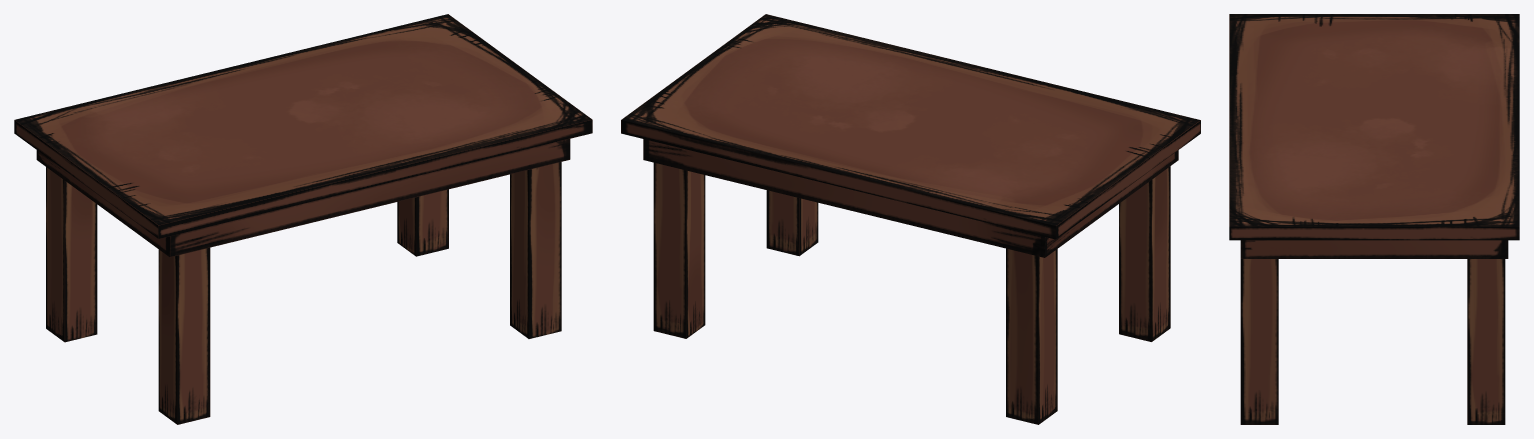
File: table_main_final.fbx
3 views of the same model, side by side, from view 1: azimuth 30°, elevation 25°; view 2: azimuth 150°, elevation 25°; view 3: azimuth 270°, elevation 25° (orthographic).
Visible parts, largest first — view 1: стол; view 2: стол; view 3: стол.
Part boxes in pixels (x1,y1,x2,y2): стол: (14,14,592,424); стол: (621,14,1200,424); стол: (1229,14,1519,424).
Bounding box in the file's own units: 2.81 × 1.3 × 1.62.
Materials: 1 (1 with a texture image).
